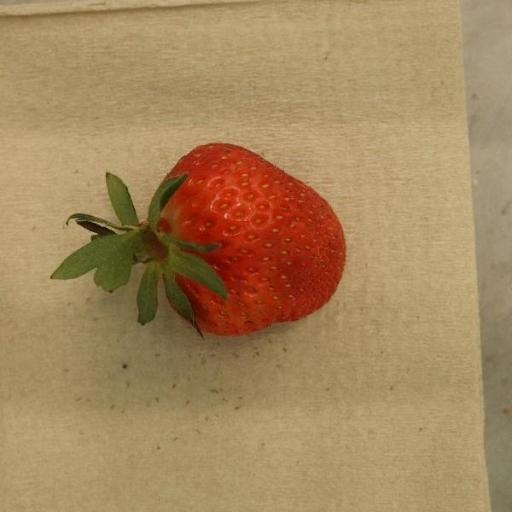Strawberry: (49, 143, 347, 337)
